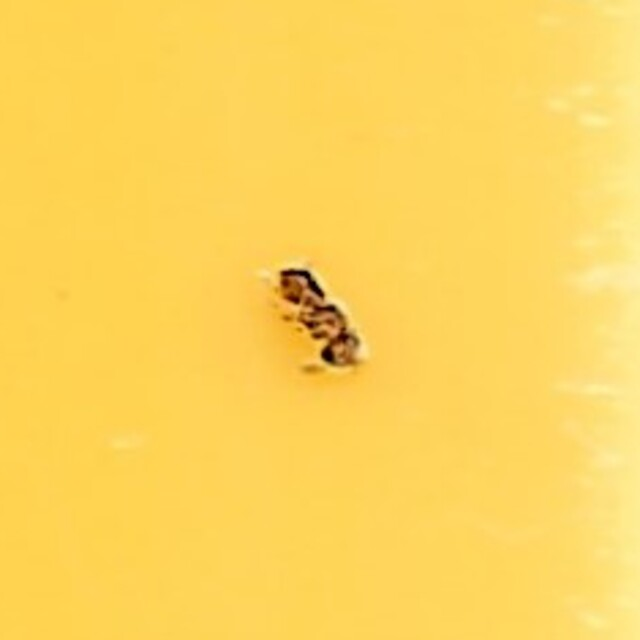Hymenoptera: (272, 258, 368, 382)
